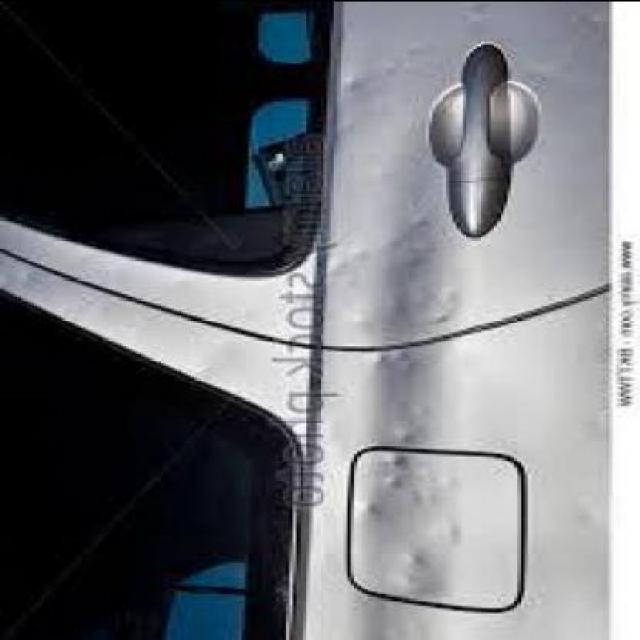damage: (327, 1, 609, 615)
